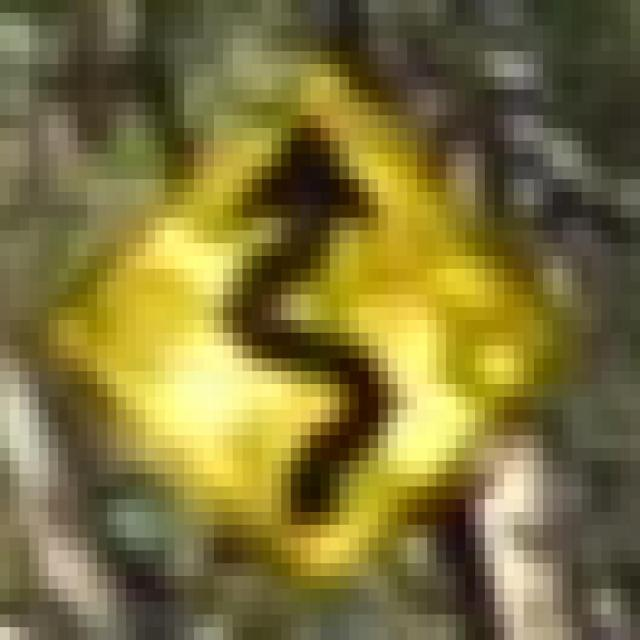Banyak Tikungan Pertama Kanan: (20, 38, 562, 589)
